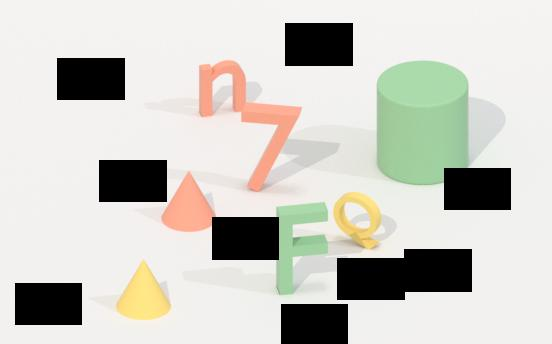7: (238, 99, 305, 195)
F: (271, 197, 332, 297)
n: (196, 58, 249, 122)
non: (111, 257, 173, 324), (158, 168, 218, 235)
q: (334, 191, 383, 251)
tru: (374, 56, 471, 186)
